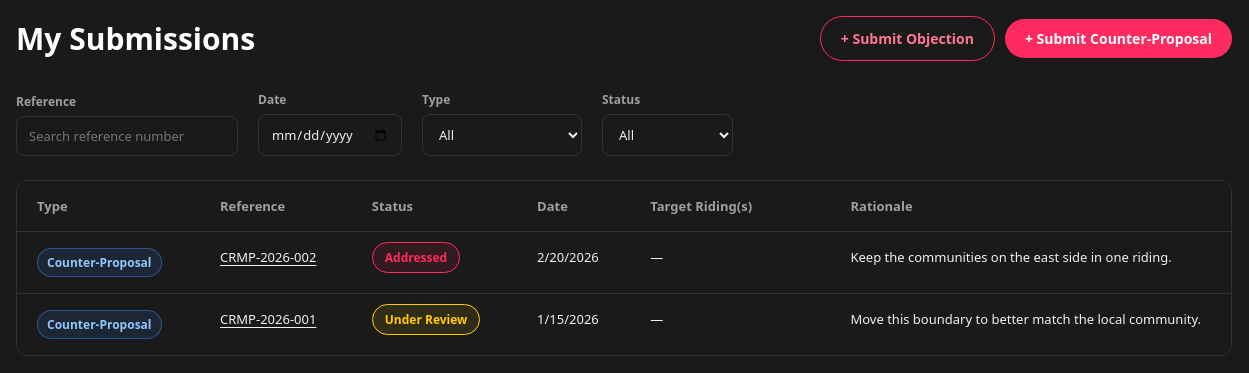
clear filters button appears once a filter is active and resets status and date filters
The image size is (1249, 373).
Check: the text "CRMP-2026-001" is shown, box [200,294,352,355]
Check: the button "Clear Filters" is not shown
Type "2026-01-15" into the date field labelled "Date".
click(330, 135); type("2026-01-15")  # box [258,114,402,156]
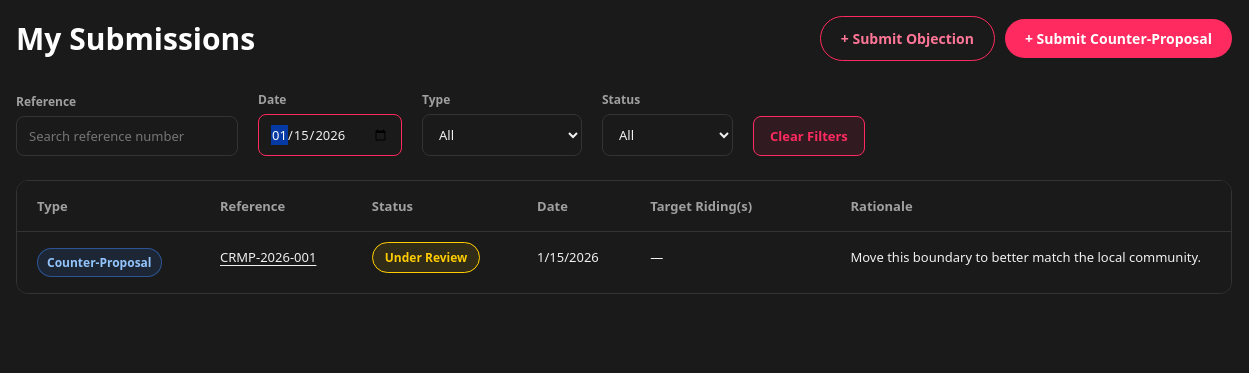
Select "Under Review" in the dropdown labelled "Status" at {"x": 668, "y": 135}, box [602,114,733,156]
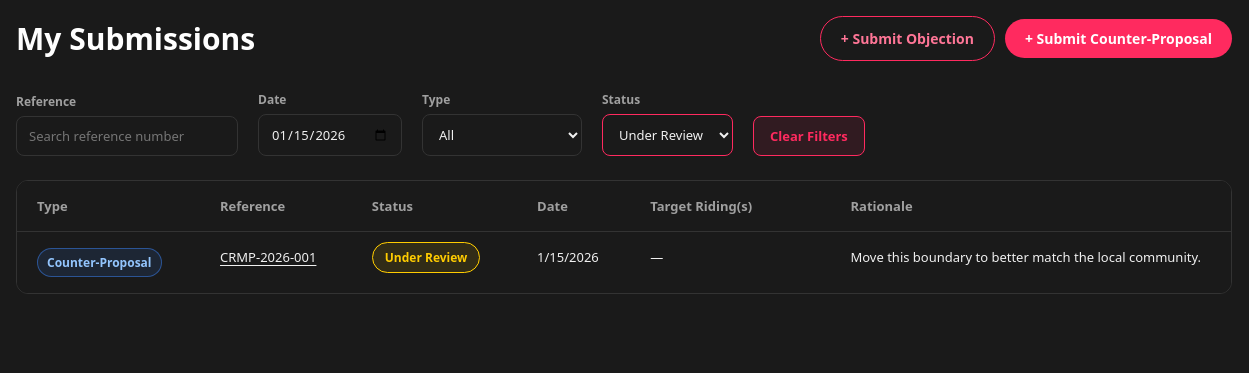
Click the button "Clear Filters".
click(809, 136)  # box [753,116,865,156]
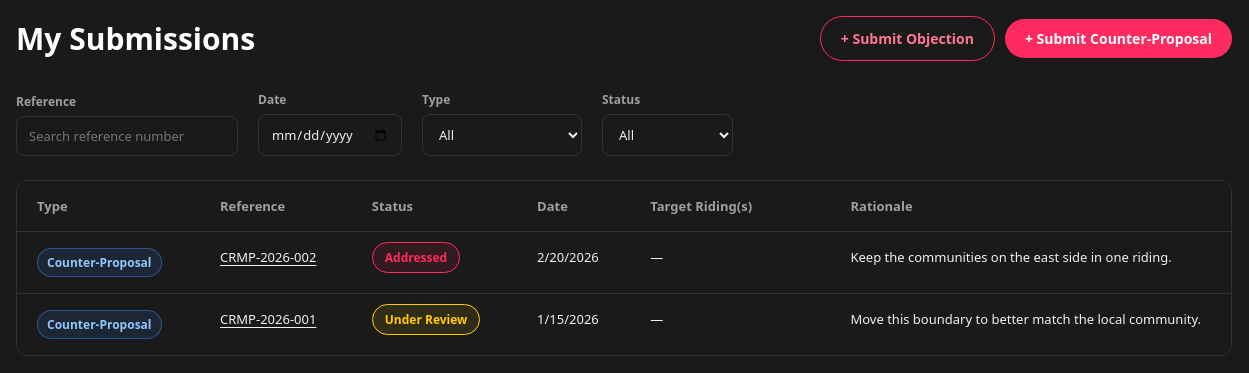
Check: the date field labelled "Date" is empty, box [258,114,402,156]
Check: the text "CRMP-2026-002" is shown, box [200,232,352,294]
Check: the button "Clear Filters" is gone
